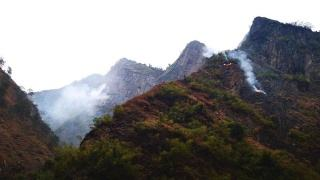yanwu: (40, 72, 126, 140), (226, 47, 265, 94)
